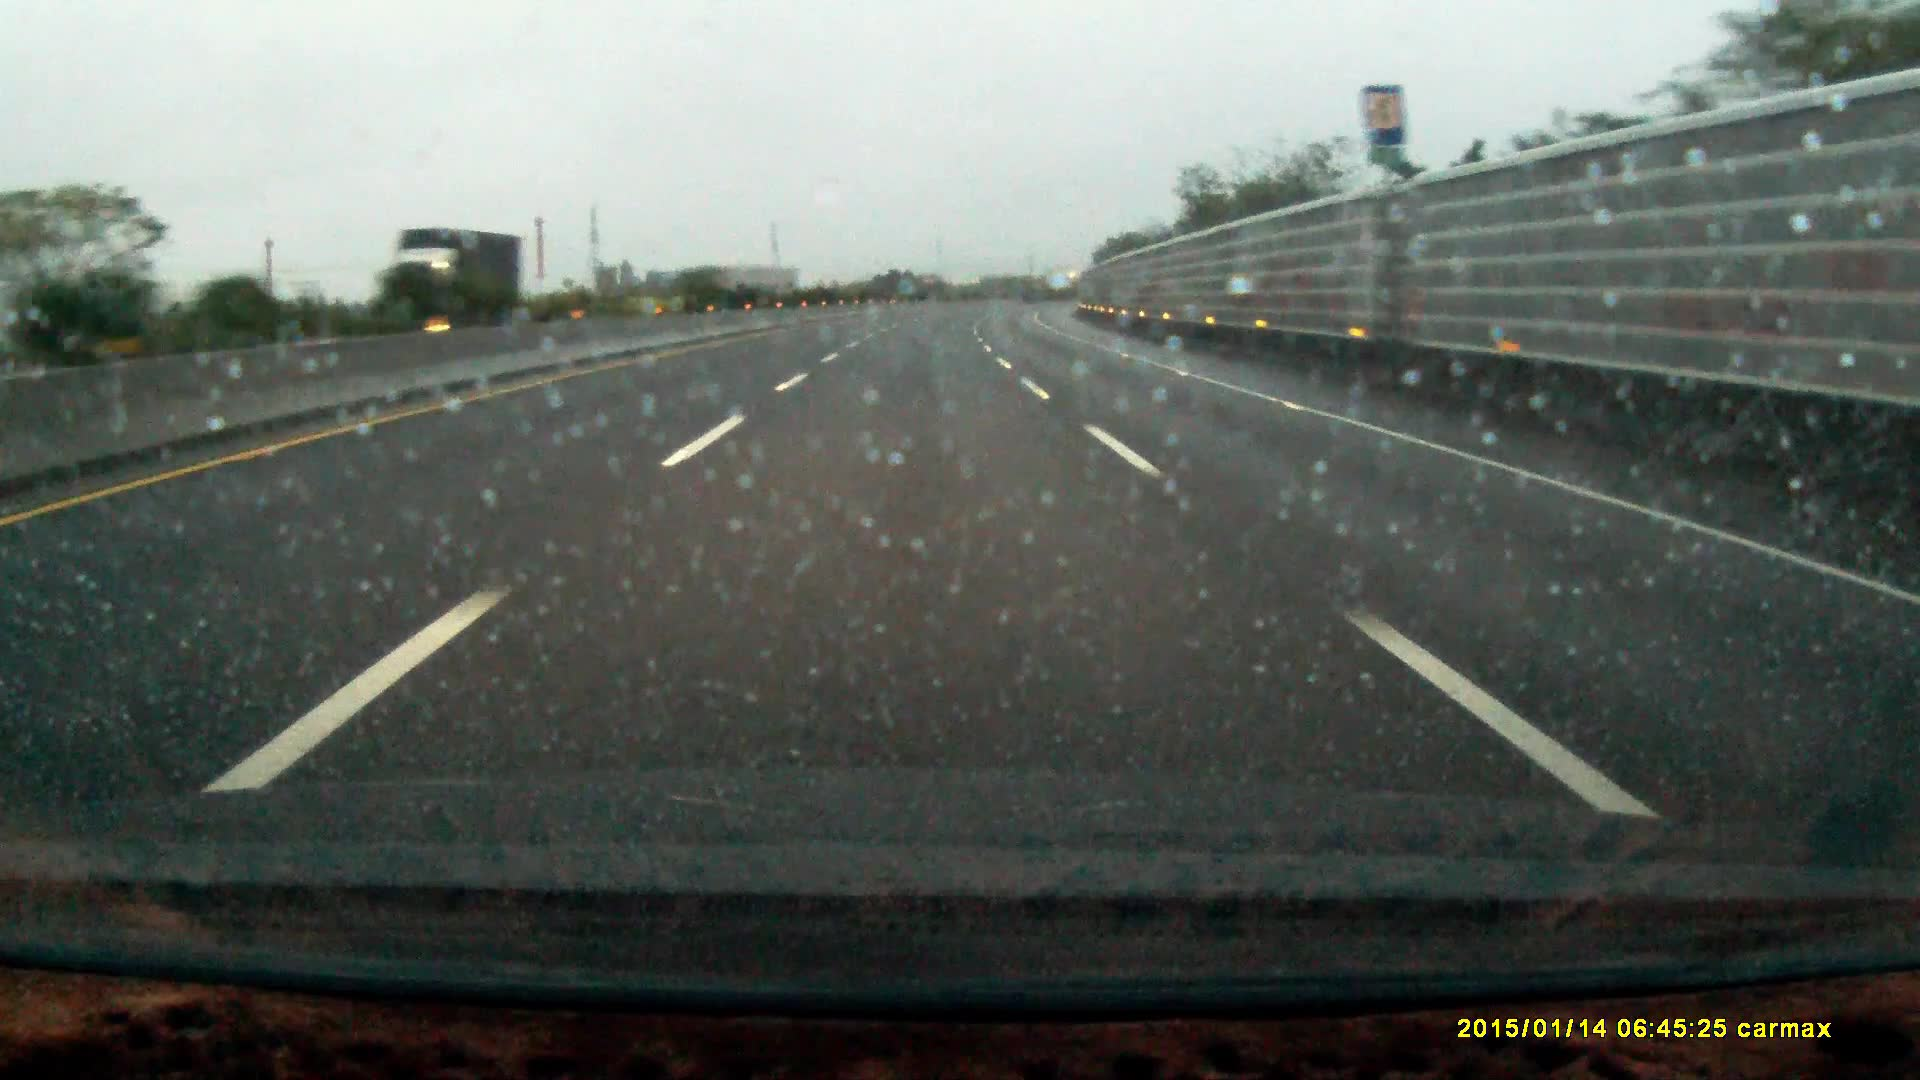vehicle: (380, 225, 527, 331)
